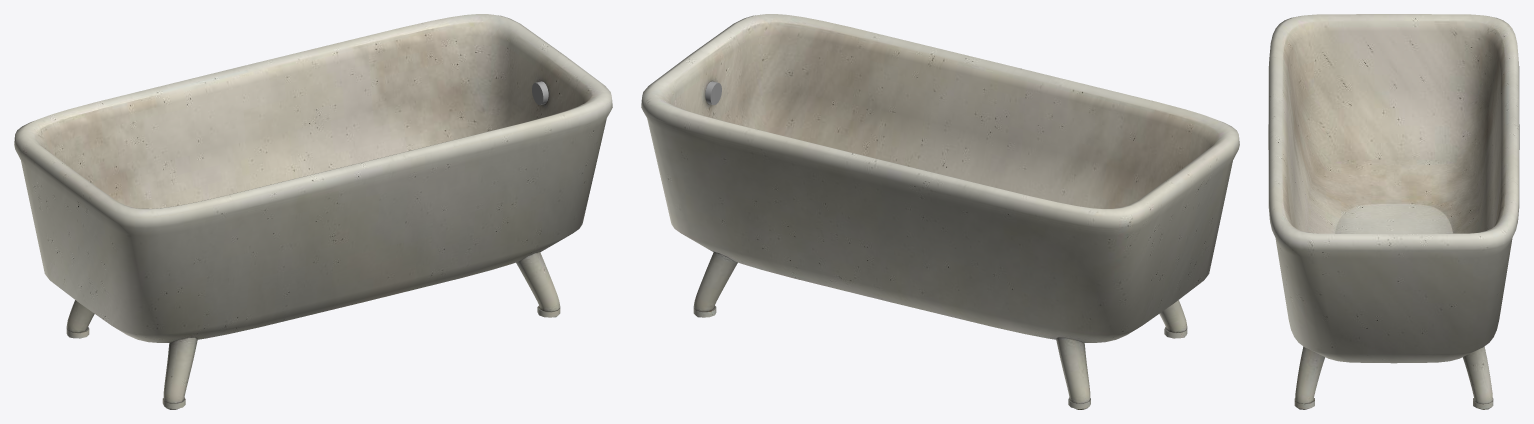
The model's file is bath_legs_web.glb.
The picture shows the model from 3 angles, left to right: view 1: azimuth 30°, elevation 25°; view 2: azimuth 150°, elevation 25°; view 3: azimuth 270°, elevation 25°; orthographic projection. The views are drawn at different scales.
Parts seen in each view (by area): view 1: BathLegs_Body; view 2: BathLegs_Body; view 3: BathLegs_Body.
Boxes of the visible parts, x1=… form: BathLegs_Body: x1=14, y1=14, x2=612, y2=409; BathLegs_Body: x1=641, y1=14, x2=1239, y2=409; BathLegs_Body: x1=1268, y1=14, x2=1519, y2=409.
Bounding box in the file's own units: 1.5 × 0.6115 × 0.704.
2 materials, 2 textured.
